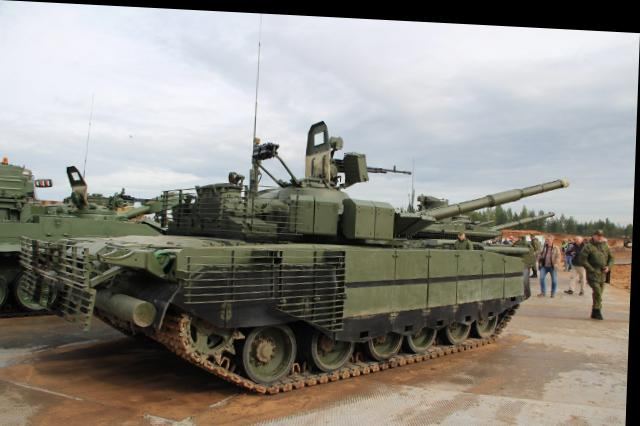other: (576, 221, 616, 308), (568, 221, 589, 290), (540, 225, 562, 288)
tank: (68, 151, 528, 365)
